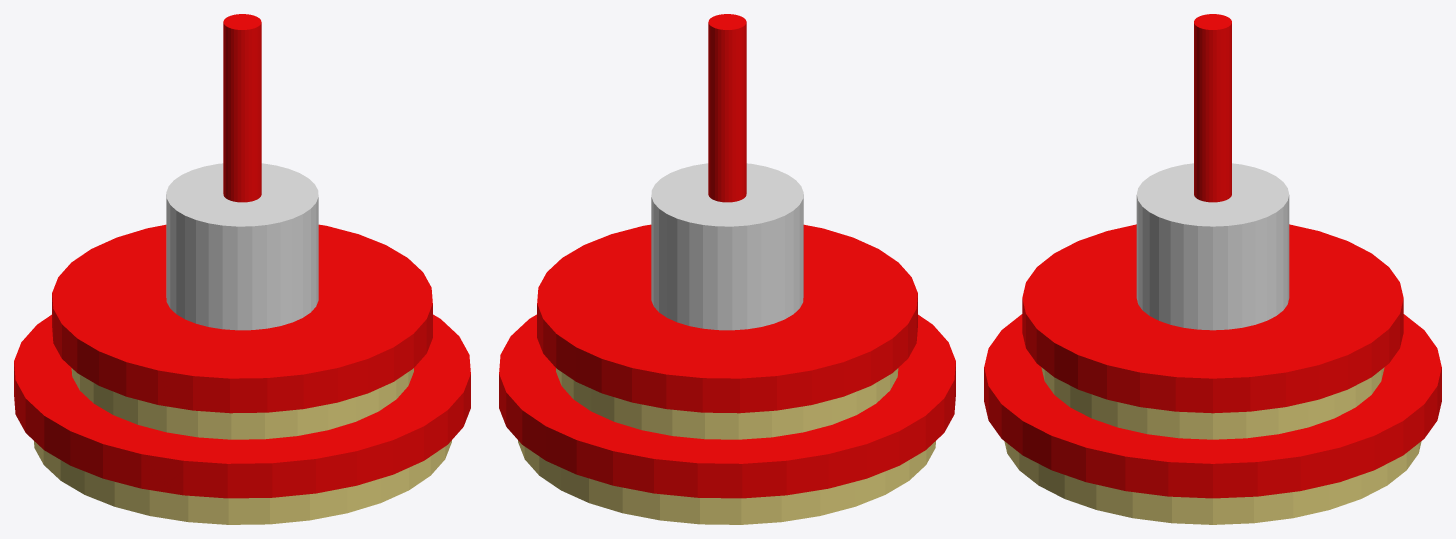
The model's file is 50's Diner Ceiling Lamp.fbx.
The picture shows the model from 3 angles, left to right: view 1: azimuth 30°, elevation 25°; view 2: azimuth 150°, elevation 25°; view 3: azimuth 270°, elevation 25°; orthographic projection.
Parts seen in each view (by area): view 1: Cylinder.001, Cylinder.003, Cylinder, Cylinder.004, Cylinder.002, Pole; view 2: Cylinder.001, Cylinder.003, Cylinder, Cylinder.004, Cylinder.002, Pole; view 3: Cylinder.001, Cylinder.003, Cylinder, Cylinder.004, Cylinder.002, Pole.
Boxes of the visible parts, bbox=[...] form: Cylinder.001: bbox=[52, 224, 432, 413]; Cylinder.003: bbox=[14, 314, 470, 498]; Cylinder: bbox=[166, 163, 318, 330]; Cylinder.004: bbox=[34, 440, 451, 524]; Cylinder.002: bbox=[71, 368, 413, 439]; Pole: bbox=[223, 14, 261, 202]; Cylinder.001: bbox=[537, 224, 917, 413]; Cylinder.003: bbox=[499, 314, 955, 498]; Cylinder: bbox=[651, 163, 803, 330]; Cylinder.004: bbox=[518, 440, 935, 524]; Cylinder.002: bbox=[556, 368, 898, 439]; Pole: bbox=[708, 14, 746, 202]; Cylinder.001: bbox=[1022, 224, 1403, 413]; Cylinder.003: bbox=[984, 314, 1441, 498]; Cylinder: bbox=[1136, 163, 1289, 330]; Cylinder.004: bbox=[1004, 441, 1421, 524]; Cylinder.002: bbox=[1041, 367, 1384, 439]; Pole: bbox=[1194, 14, 1231, 202].
Bounding box in the file's own units: 60 × 63.27 × 60.
